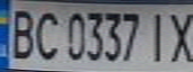0: (60, 8, 84, 62)
3: (81, 8, 106, 62), (103, 8, 124, 62)
7: (118, 8, 145, 62)
B: (3, 4, 39, 61)
C: (30, 7, 63, 62)
I: (142, 8, 172, 63)
X: (163, 9, 193, 64)
